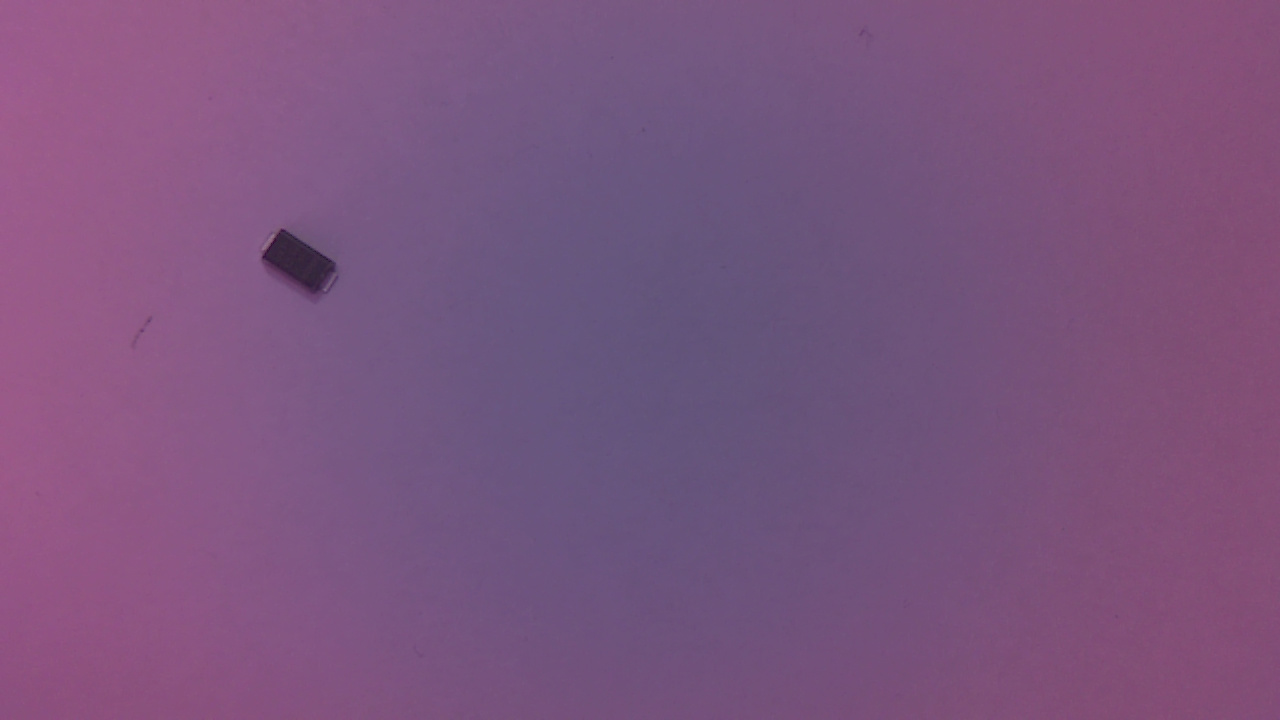Diode: (263, 230, 346, 306)
